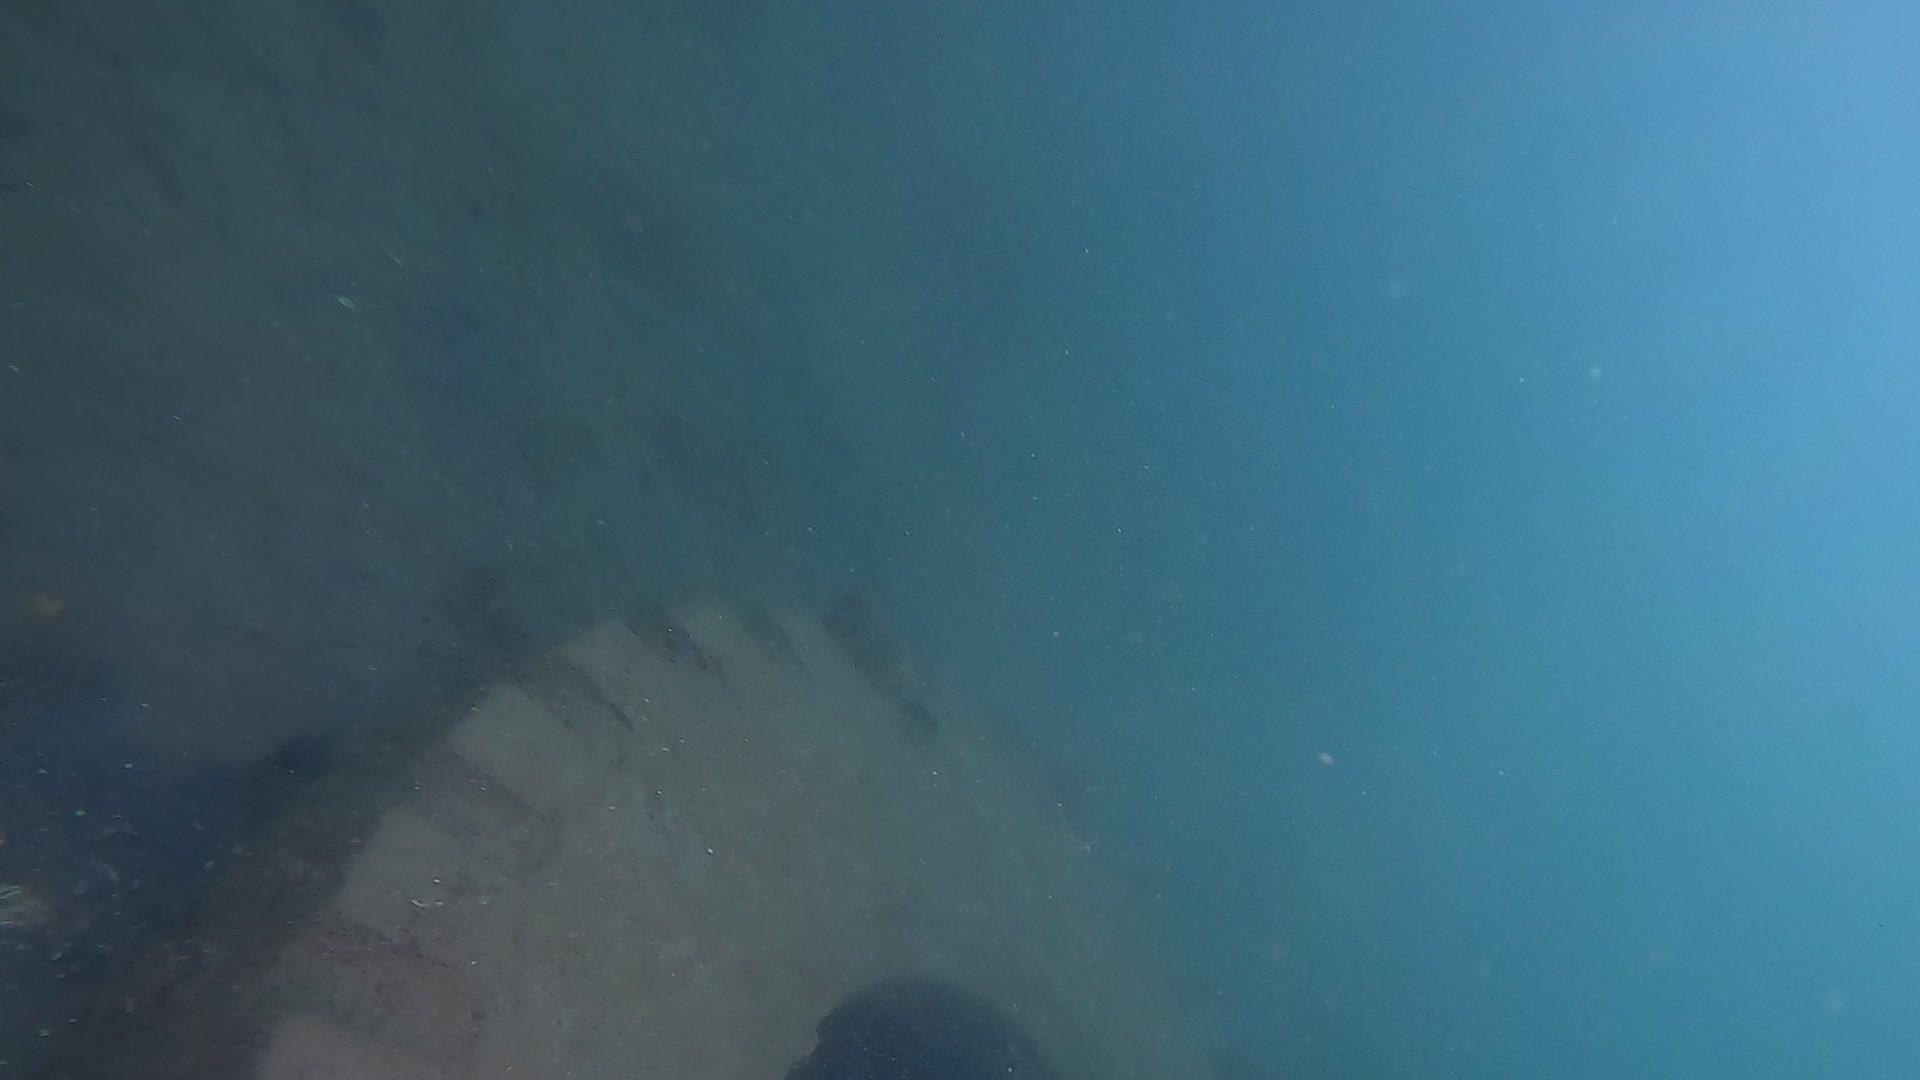tire: (70, 593, 1246, 1080)
